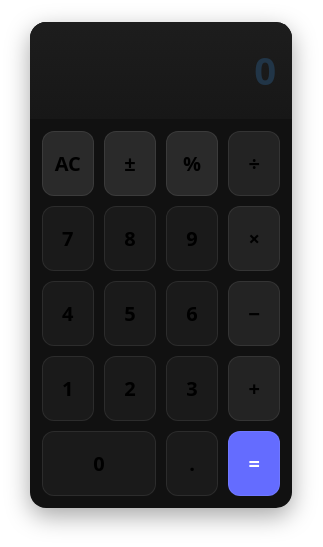
Test: multiplies with decimal: 5 × 3.2 = 16
Click the button "5": click(130, 314) [104,281,156,346]
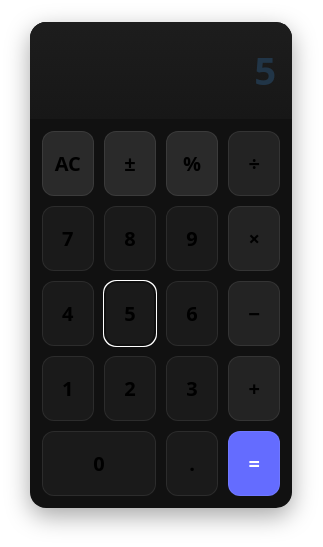
Click the button "×": click(254, 239) [228,206,280,271]
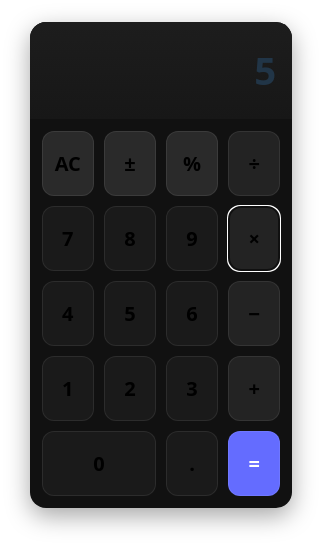
Click the button "3": click(192, 389) [166,356,218,421]
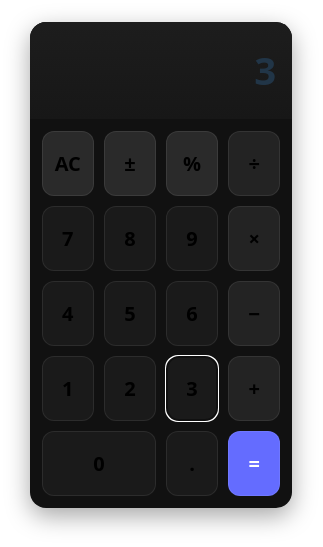
Click the button ".": click(192, 464) [166,431,218,496]
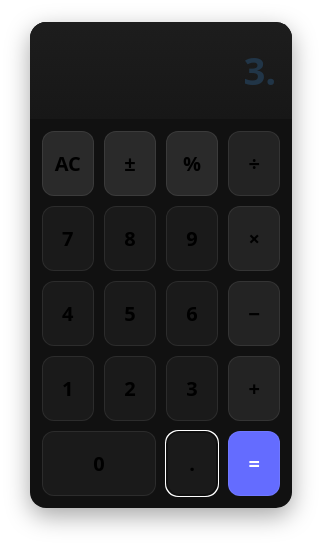
Click the button "2": click(130, 389) [104,356,156,421]
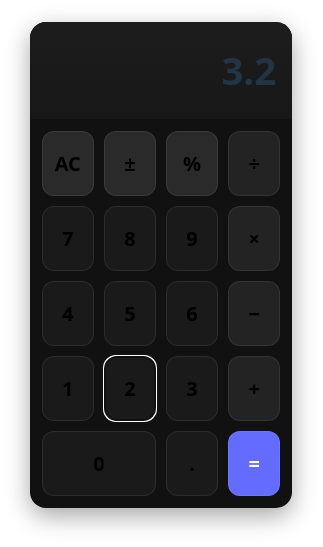
Click the button "=": click(254, 464) [228,431,280,496]
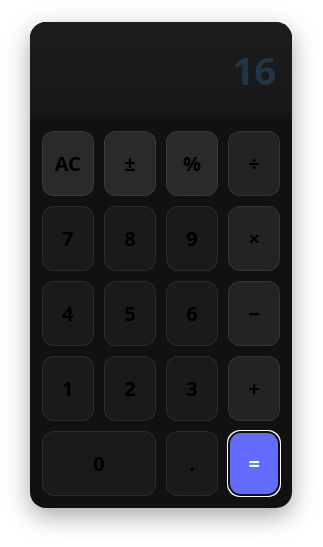
Expected: the text named "display" reads "16", [232,44,276,96]
